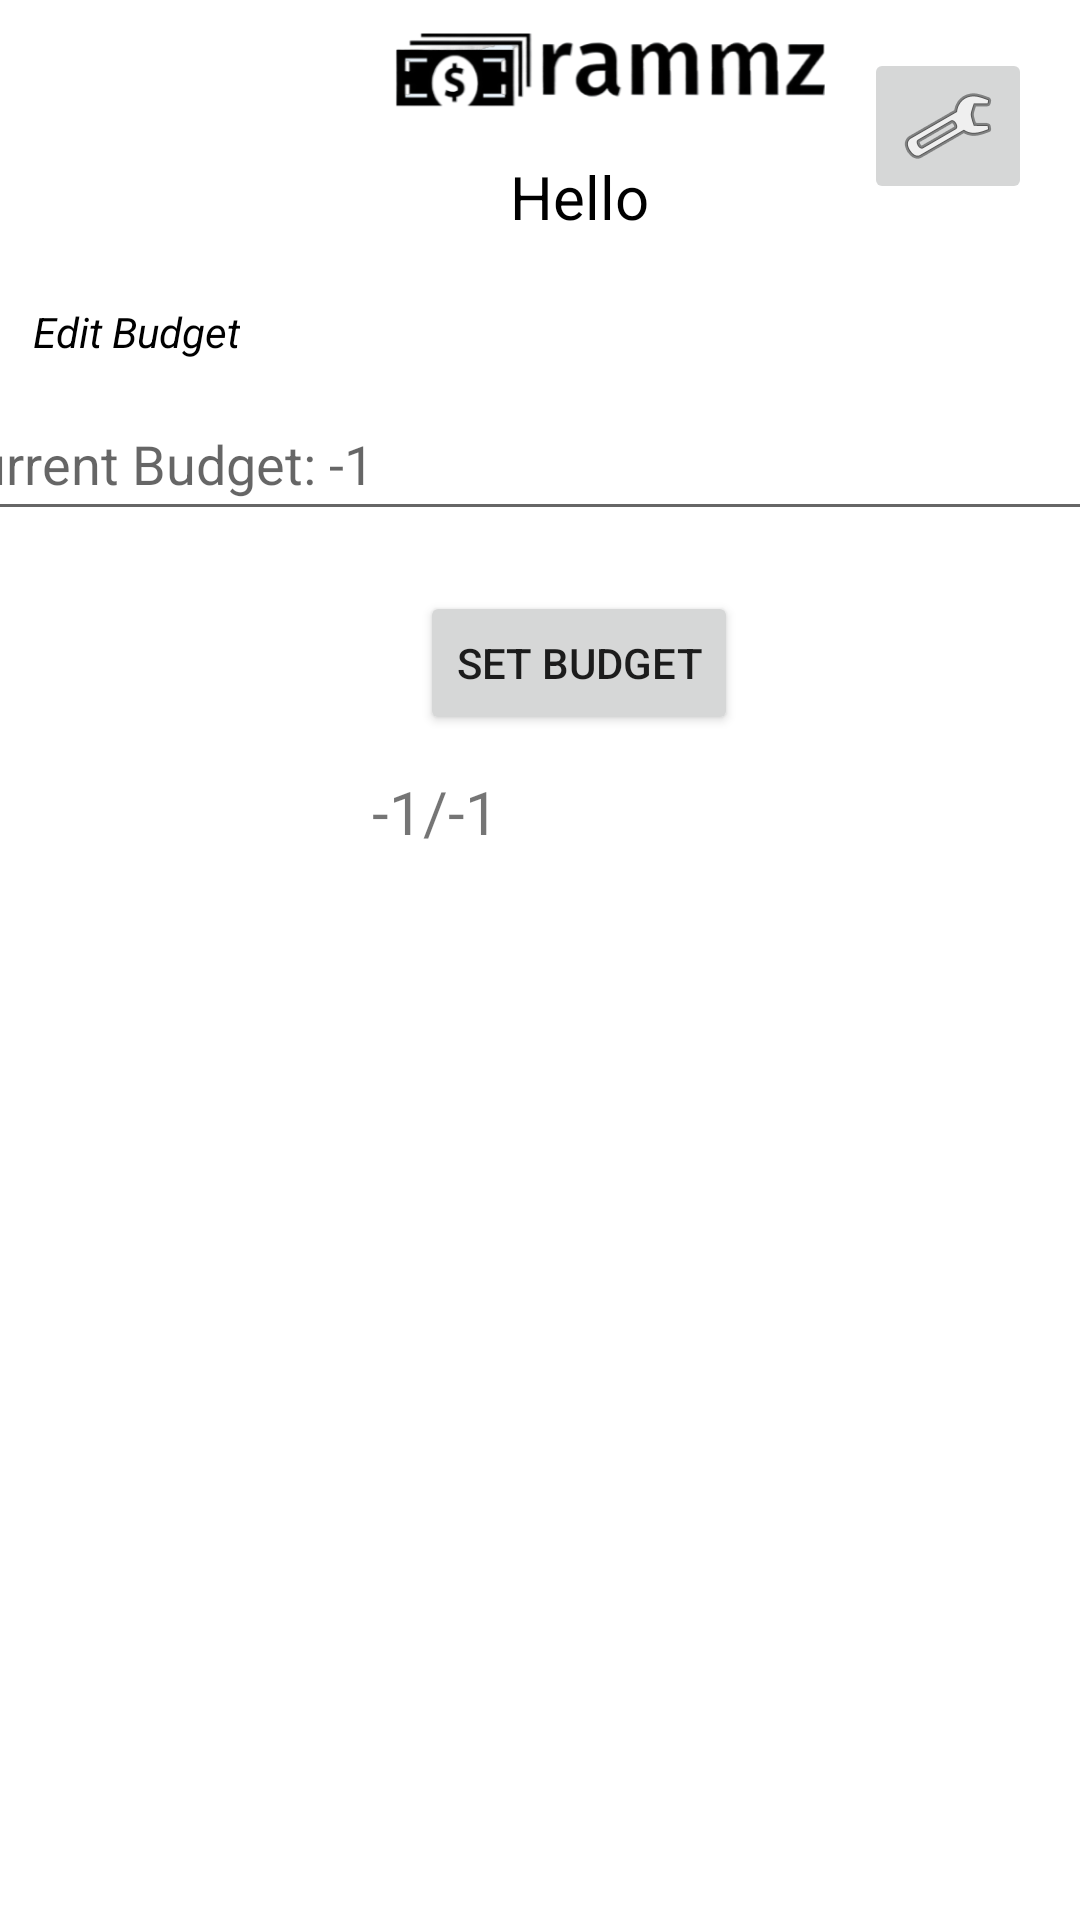

Screen size 1080px×1920px. Icon name, then its box in pixels as (x1, y1, x2, y2):
manage: (876, 66, 1020, 186)
